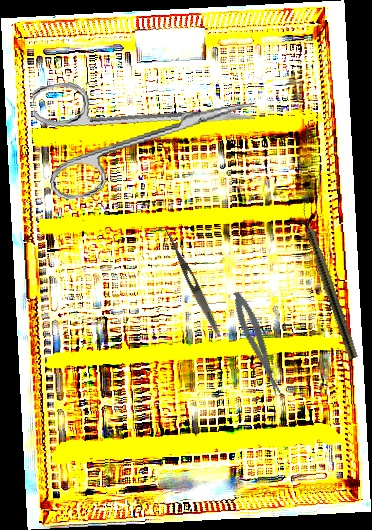Dressing Forceps: (160, 225, 223, 337)
Handpiece: (294, 200, 361, 360)
Iris Scissors: (30, 57, 264, 203)
Micro Scissor: (228, 288, 287, 403)
